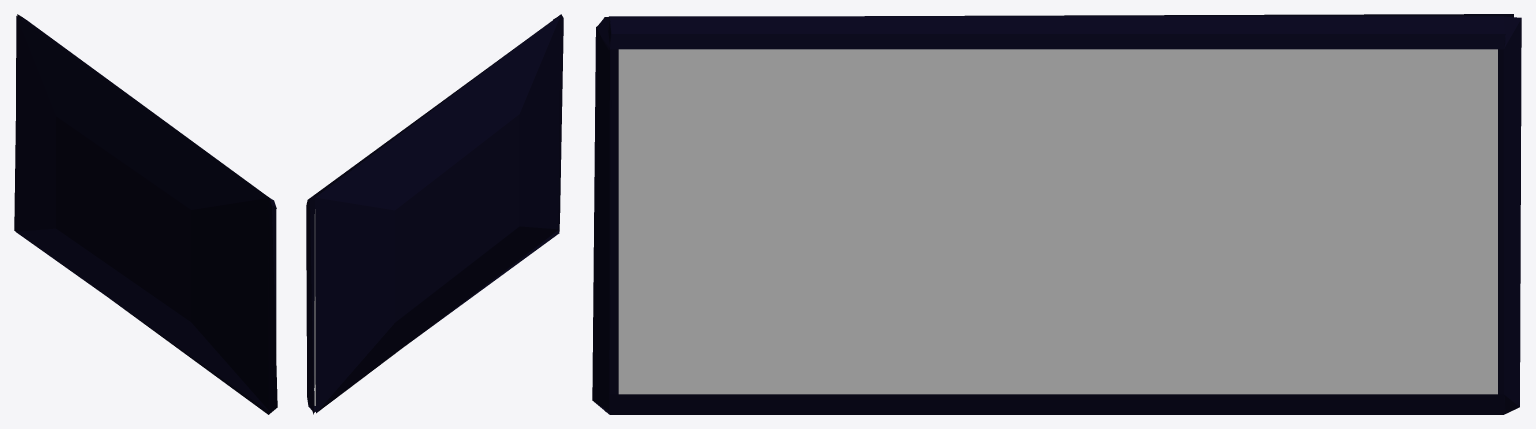
3 views of the same model, side by side, from view 1: azimuth 30°, elevation 25°; view 2: azimuth 150°, elevation 25°; view 3: azimuth 270°, elevation 25° (orthographic). The views are drawn at different scales.
Parts seen in each view (by area): view 1: TVFuremu; view 2: TVFuremu, men; view 3: men, TVFuremu.
Part boxes in pixels (bbox=[...]): TVFuremu: bbox=[14, 14, 277, 414]; TVFuremu: bbox=[306, 14, 563, 414]; men: bbox=[314, 209, 315, 405]; men: bbox=[618, 49, 1497, 394]; TVFuremu: bbox=[592, 14, 1521, 414].
Bounding box in the file's own units: 45.41 × 295 × 624.
